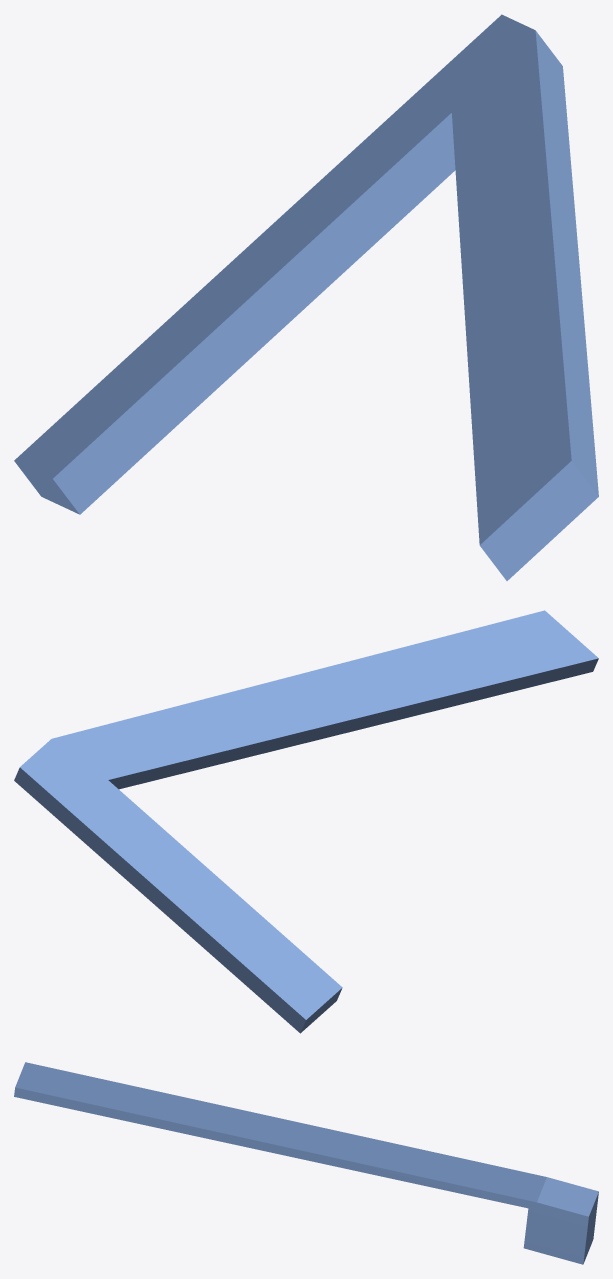
Rendered from New_Number_7.gltf.
3 views of the same model, one above another, from view 1: azimuth 30°, elevation 25°; view 2: azimuth 150°, elevation 25°; view 3: azimuth 270°, elevation 25° (orthographic). The views are drawn at different scales.
Parts seen in each view (by area): view 1: Part 646; view 2: Part 646; view 3: Part 646.
Boxes of the visible parts, bbox=[...] form: Part 646: bbox=[14, 14, 598, 580]; Part 646: bbox=[14, 610, 598, 1033]; Part 646: bbox=[14, 1062, 598, 1264].
Size of the model in its own units: 0.00336 by 0.00227 by 0.00546.
